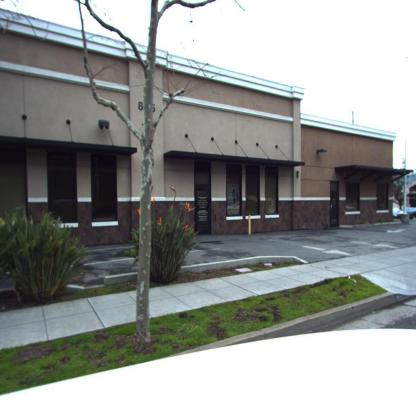pottedplant: (0, 206, 92, 304)
